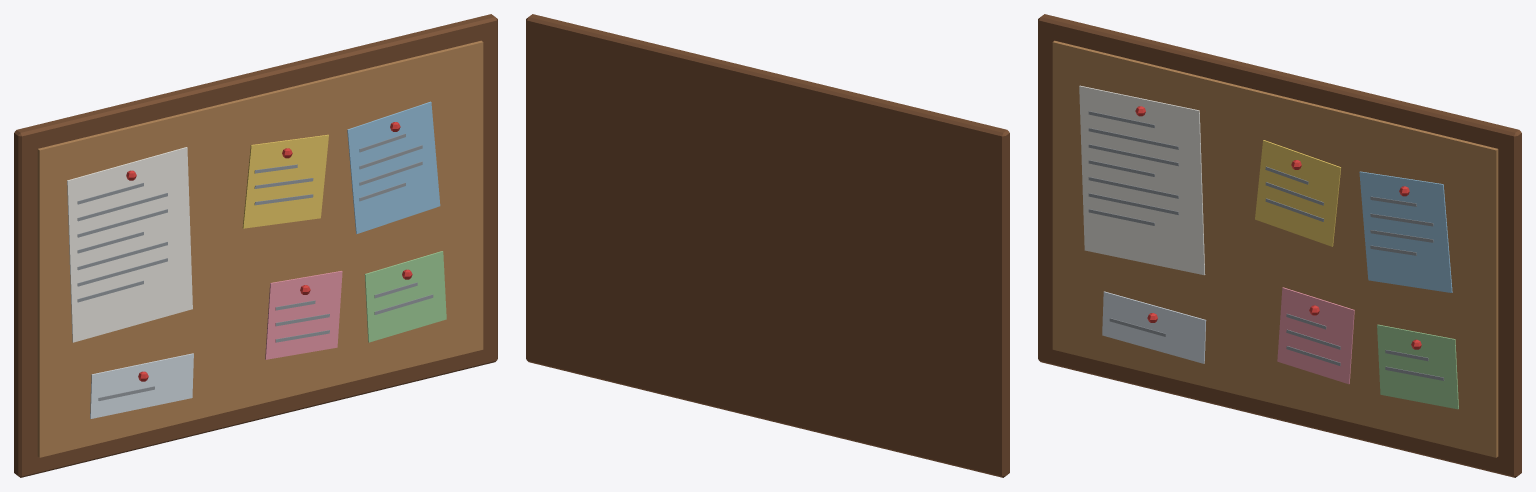
Rendered from cork_board.glb.
3 renders of one model, left to right at view 1: azimuth 30°, elevation 25°; view 2: azimuth 150°, elevation 25°; view 3: azimuth 330°, elevation 25°, orthographic.
Visible parts, largest first — view 1: CorkBoard; view 2: CorkBoard; view 3: CorkBoard.
Part boxes in pixels (left/top/right/bottom): CorkBoard: left=14, top=14, right=497, bottom=477; CorkBoard: left=526, top=14, right=1009, bottom=477; CorkBoard: left=1038, top=14, right=1521, bottom=477.
Bounding box in the file's own units: 0.8 × 0.55 × 0.039.
